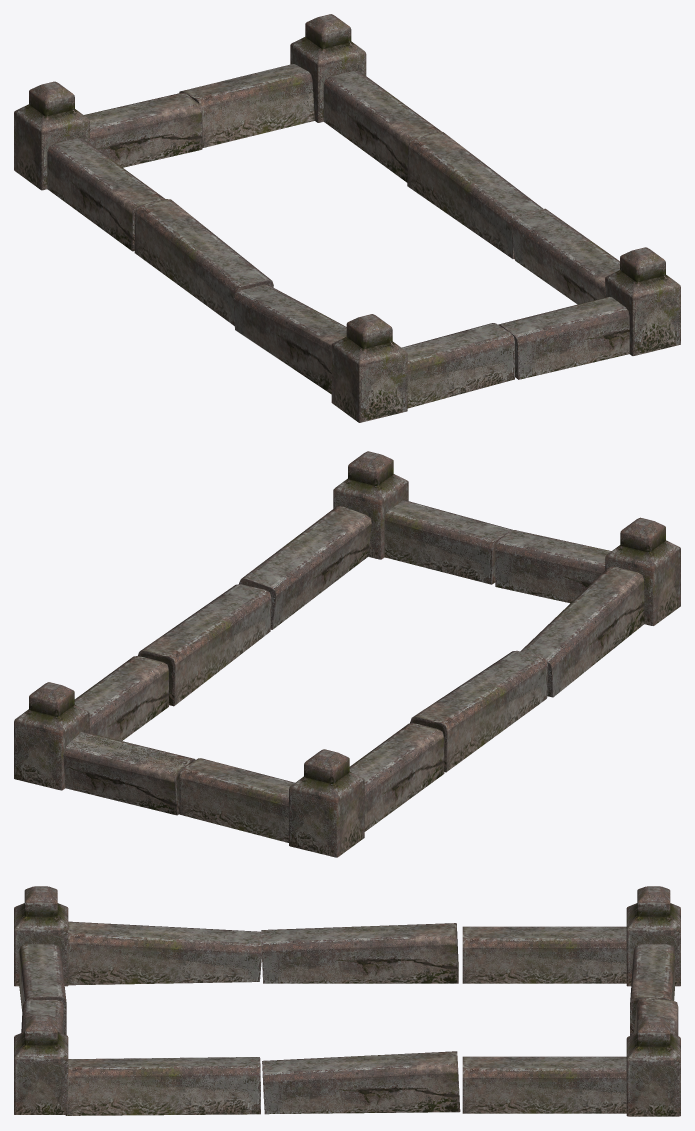
The model's file is SM_Curb_09.fbx.
3 renders of one model, top to bottom at view 1: azimuth 30°, elevation 25°; view 2: azimuth 150°, elevation 25°; view 3: azimuth 270°, elevation 25°, orthographic. The views are drawn at different scales.
Visible parts, largest first — view 1: SM_curb_09; view 2: SM_curb_09; view 3: SM_curb_09.
Part boxes in pixels (x1,y1,x2,y2): SM_curb_09: [14, 14, 680, 422]; SM_curb_09: [14, 451, 680, 857]; SM_curb_09: [14, 886, 680, 1116].
Bounding box in the file's own units: 107 × 27.87 × 197.
